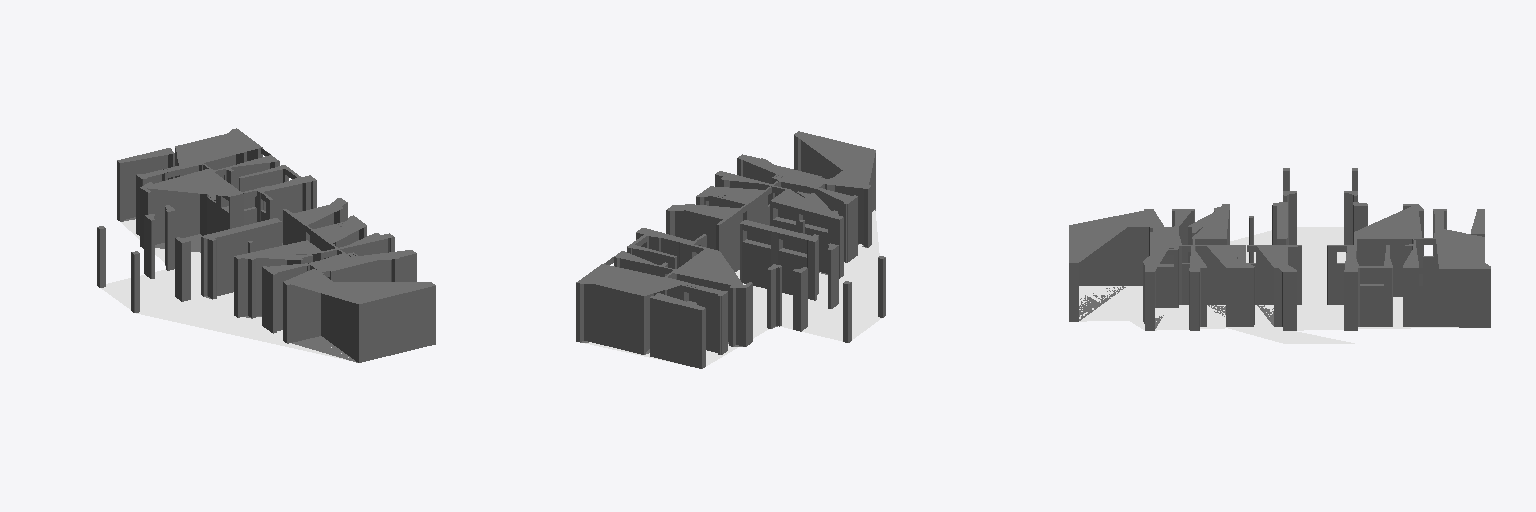
Rendered from ac8cb306-2aa3-4fea-81f1-f5da5ffedc80.obj.
3 renders of one model, left to right at view 1: azimuth 30°, elevation 25°; view 2: azimuth 150°, elevation 25°; view 3: azimuth 270°, elevation 25°, orthographic.
Visible parts, largest first — view 1: Floor, Box13Wall242, VertWalls27, Box17Wall337, Box13Wall241, Box14Wall260, VertWalls17, Box13Wall240, VertWalls29, Box10Wall197, Box7Wall130, VertWalls31 (+12 smaller); view 2: Floor, Box8Wall170, Box10Wall204, VertWalls27, VertWalls17, VertWalls29, Box3Wall55, Box57Wall229, Box3Wall58, VertWalls31, Box11Wall216, VertWalls15 (+7 smaller); view 3: Floor, Box13Wall247, Box8Wall167, VertWalls27, VertWalls17, Box14Wall275, Box4Wall72, VertWalls29, Box32Wall130, Box4Wall60, Box6Wall114, Box3Wall45 (+12 smaller).
Boxes of the visible parts, <box> form: Floor: <box>101,219,348,360</box>; Box13Wall242: <box>359,286,435,362</box>; VertWalls27: <box>284,269,435,303</box>; Box17Wall337: <box>215,222,281,295</box>; Box13Wall241: <box>321,293,358,362</box>; Box14Wall260: <box>147,188,199,244</box>; VertWalls17: <box>175,128,261,168</box>; Box13Wall240: <box>287,284,320,343</box>; VertWalls29: <box>140,168,242,196</box>; Box10Wall197: <box>124,155,167,219</box>; Box7Wall130: <box>331,260,390,281</box>; VertWalls31: <box>234,240,323,259</box>; Floor: <box>585,210,881,367</box>; Box8Wall170: <box>584,284,643,354</box>; Box10Wall204: <box>650,298,701,368</box>; VertWalls27: <box>794,131,875,188</box>; VertWalls17: <box>576,264,687,295</box>; VertWalls29: <box>671,248,751,287</box>; Box3Wall55: <box>675,210,722,253</box>; Box57Wall229: <box>742,242,770,288</box>; Box3Wall58: <box>719,209,742,271</box>; VertWalls31: <box>771,189,842,219</box>; Box11Wall216: <box>697,289,717,352</box>; VertWalls15: <box>738,154,821,185</box>; Floor: <box>1079,227,1458,343</box>; Box13Wall247: <box>1079,227,1148,285</box>; Box8Wall167: <box>1439,269,1490,327</box>; VertWalls27: <box>1069,209,1163,262</box>; VertWalls17: <box>1434,228,1490,268</box>; Box14Wall275: <box>1357,239,1411,296</box>; Box4Wall72: <box>1226,268,1253,326</box>; VertWalls29: <box>1354,204,1423,239</box>; Box32Wall130: <box>1360,286,1383,326</box>; Box4Wall60: <box>1205,246,1225,304</box>; Box6Wall114: <box>1403,268,1418,326</box>; Box3Wall45: <box>1256,246,1273,304</box>.
Size of the model in its own units: 10.66 by 2.5 by 16.24.